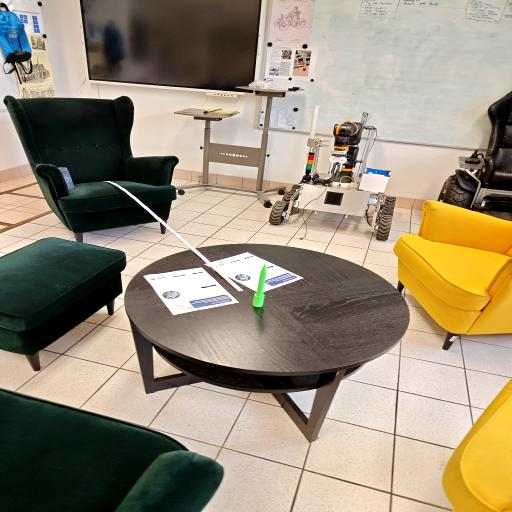Probe-Detection: (252, 264, 267, 307)
